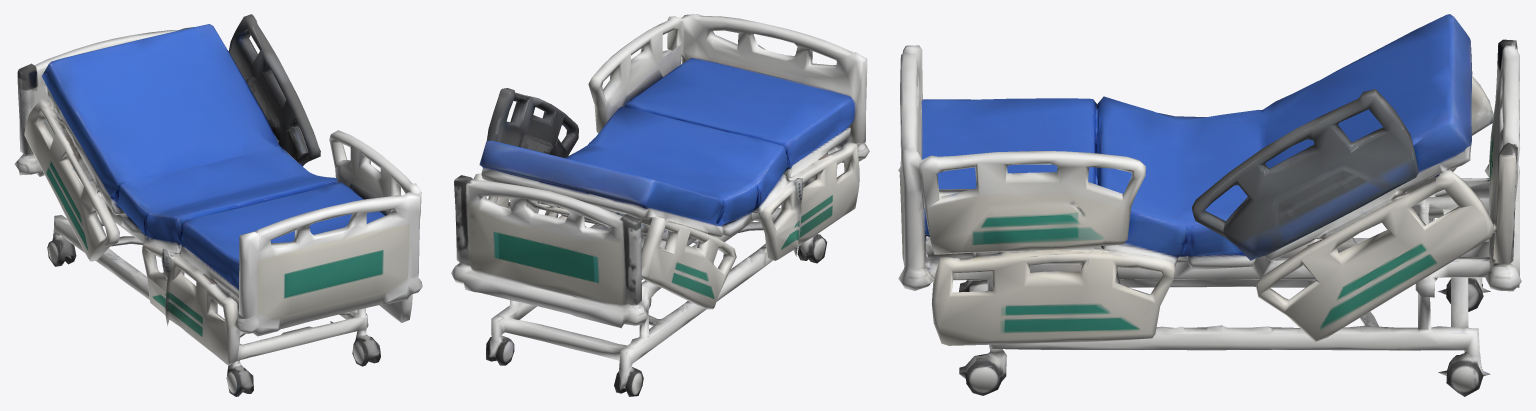
The model's file is Cama.fbx.
The picture shows the model from 3 angles, left to right: view 1: azimuth 30°, elevation 25°; view 2: azimuth 150°, elevation 25°; view 3: azimuth 270°, elevation 25°; orthographic projection. The views are drawn at different scales.
Parts seen in each view (by area): view 1: Mesh_0; view 2: Mesh_0; view 3: Mesh_0.
Part boxes in pixels (bbox=[...]): Mesh_0: bbox=[14, 14, 422, 396]; Mesh_0: bbox=[451, 14, 869, 396]; Mesh_0: bbox=[898, 14, 1521, 396].
Bounding box in the file's own units: 0.9651 × 1.13 × 2.
Materials: 1 (1 with a texture image).
